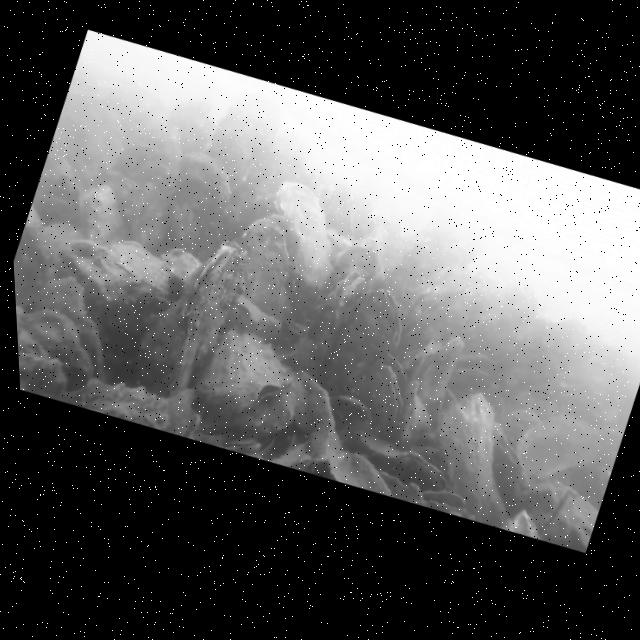Oyster-Closed: (404, 374, 549, 539), (146, 231, 262, 402), (309, 274, 419, 416), (187, 316, 307, 435), (63, 220, 184, 316), (56, 355, 178, 441), (404, 324, 471, 415), (353, 359, 422, 445), (381, 372, 449, 459), (387, 443, 455, 502), (224, 427, 264, 461)
Oyster-Indeterminate: (144, 232, 299, 347), (14, 263, 139, 394), (139, 137, 259, 273), (212, 207, 316, 330), (268, 365, 363, 472), (16, 296, 91, 407), (63, 174, 139, 256), (320, 438, 406, 504)
Oyster-Open: (289, 259, 374, 380)
